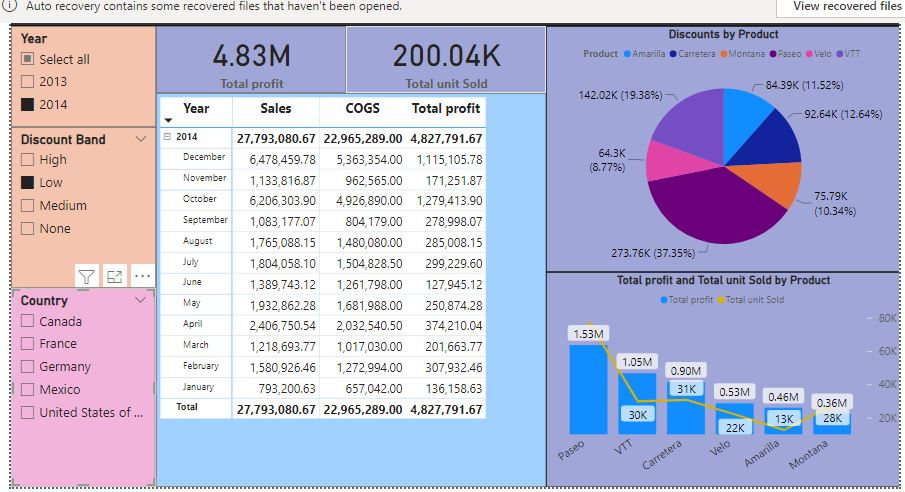

Layout of this report page (visuals, bound fields, positions):
{"tool":"powerbi","page":{"name":"Financial Dashboard","canvas":[1280,720],"ordinal":0},"visuals":[{"type":"slicer","fields":{"Values":["Sheet1.Discount Band"]},"box":[0,201.6,208.8,231.8],"z":0},{"type":"slicer","fields":{"Values":["Sheet1.Country"]},"box":[0,433.4,208.3,287.2],"z":1000},{"type":"slicer","fields":{"Values":["Sheet1.Date.Variation.Date Hierarchy.Year"]},"box":[0,56.2,208.8,145.4],"z":2000},{"type":"card","fields":{"Values":["Sheet1.Total profit"]},"box":[208.8,56.2,273.6,96.5],"z":3000},{"type":"card","fields":{"Values":["Sheet1.Total unit Sold"]},"box":[482.4,56.2,288,96.5],"z":4000},{"type":"pivotTable","fields":{"Values":["Sum(Sheet1. Sales)","Sum(Sheet1.COGS)","Sheet1.Total profit"],"Rows":["Sheet1.Date.Variation.Date Hierarchy.Year","Sheet1.Date.Variation.Date Hierarchy.Month"]},"box":[208.8,152.6,561.6,567.4],"z":5000},{"type":"lineStackedColumnComboChart","fields":{"Category":["Sheet1.Product"],"Y":["Sheet1.Total profit"],"Y2":["Sheet1.Total unit Sold"]},"box":[770.4,400.3,509.8,309.6],"z":6000},{"type":"pieChart","fields":{"Y":["Sum(Sheet1.Discounts)"],"Series":["Sheet1.Product"]},"box":[770.4,56.2,509.8,354.2],"z":7000},{"type":"textbox","box":[0,0,1280.2,56.2],"z":8000}]}

Visuals, with their boxes in screenshot pixels (x1, y1, x2, y2):
slicer - Sheet1.Discount Band: detection(5, 122, 151, 284)
slicer - Sheet1.Country: detection(5, 284, 150, 485)
slicer - Sheet1.Date.Variation.Date Hierarchy.Year: detection(5, 20, 151, 122)
card - Sheet1.Total profit: detection(151, 20, 342, 88)
card - Sheet1.Total unit Sold: detection(342, 20, 544, 88)
pivotTable - Sum(Sheet1. Sales) x Sum(Sheet1.COGS): detection(151, 88, 544, 485)
lineStackedColumnComboChart - Sheet1.Product x Sheet1.Total profit: detection(544, 261, 900, 478)
pieChart - Sum(Sheet1.Discounts) x Sheet1.Product: detection(544, 20, 900, 268)
textbox: detection(5, 0, 900, 20)
